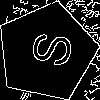S: (21, 27, 74, 70)
